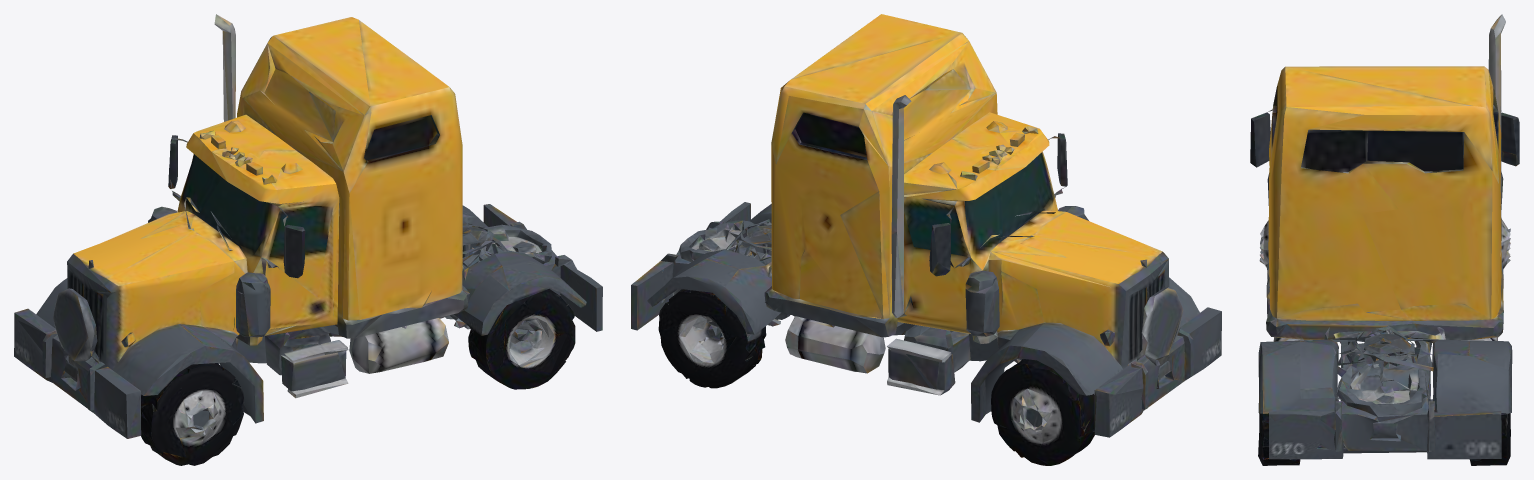
The model's file is tractor.glb.
3 views of the same model, side by side, from view 1: azimuth 30°, elevation 25°; view 2: azimuth 150°, elevation 25°; view 3: azimuth 270°, elevation 25° (orthographic). The views are drawn at different scales.
Bounding box in the file's own units: 1.9 × 1.27 × 0.893.
Materials: 1 (1 with a texture image).
